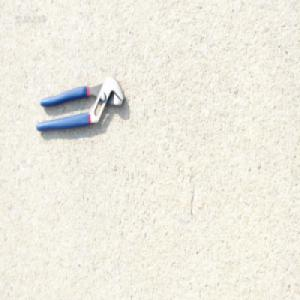Pliers: (34, 73, 125, 133)
